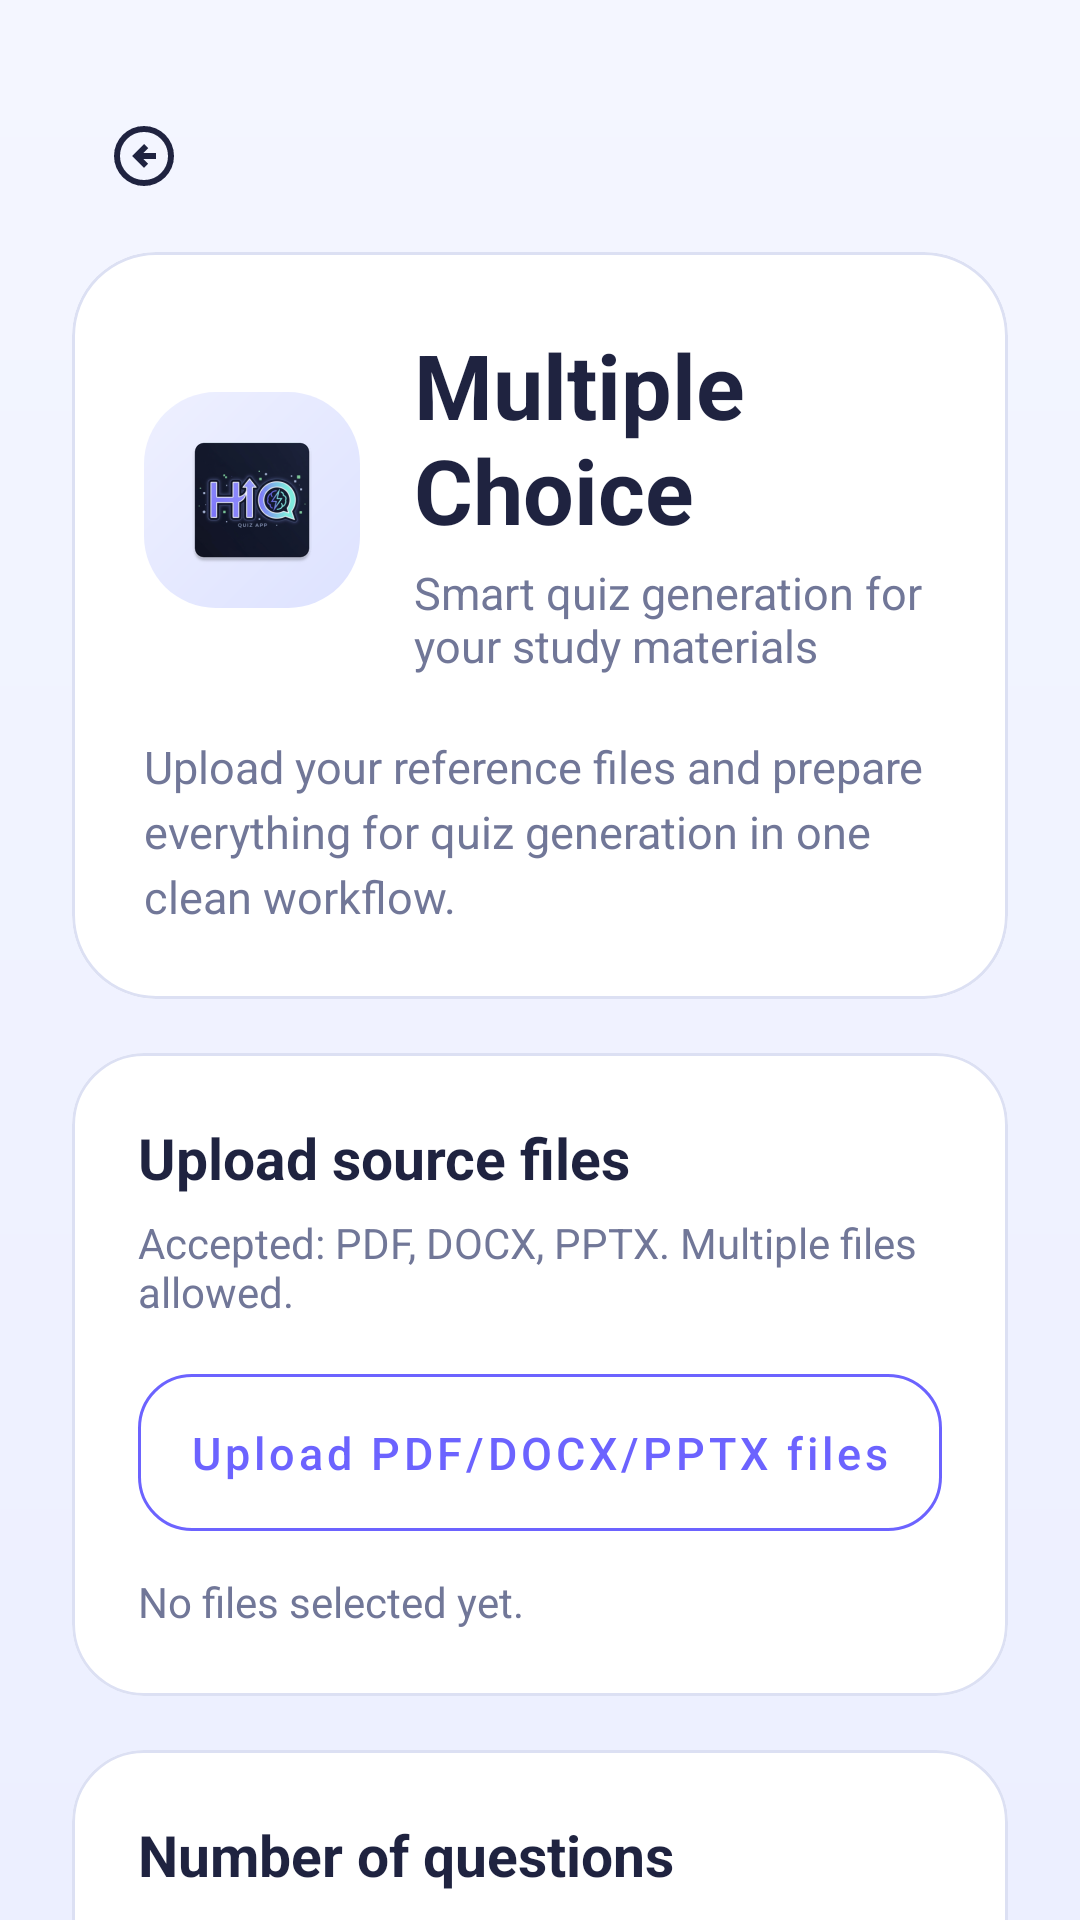

Named icons in this screenshot (1080*1920) and their bounding boxes, box=[x1, y1, x2, y2]:
Back: box=[114, 126, 174, 186]
